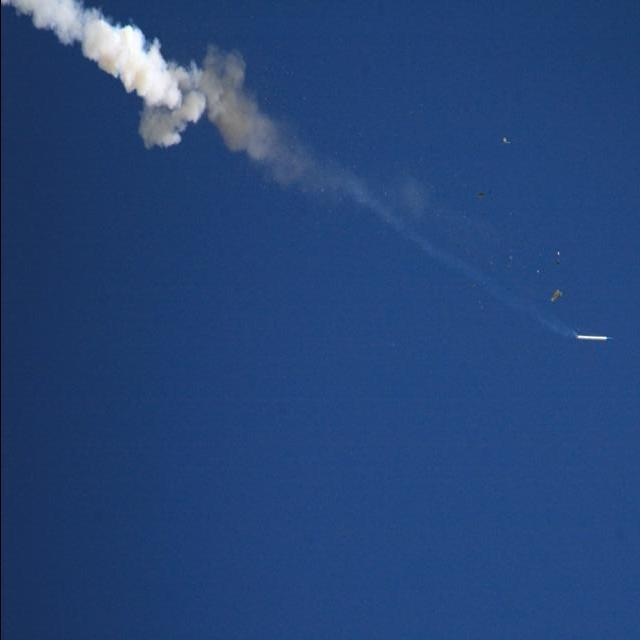Missile: (574, 333, 614, 342)
